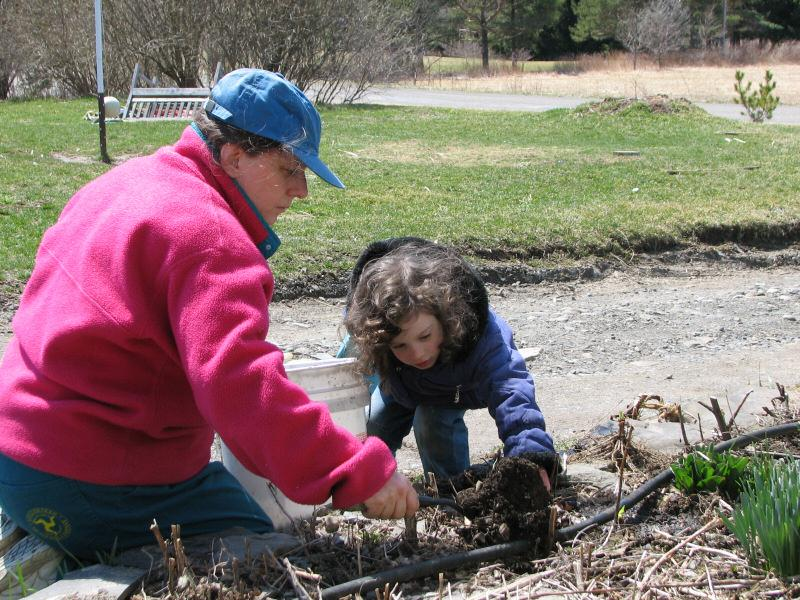person: (1, 68, 424, 568)
